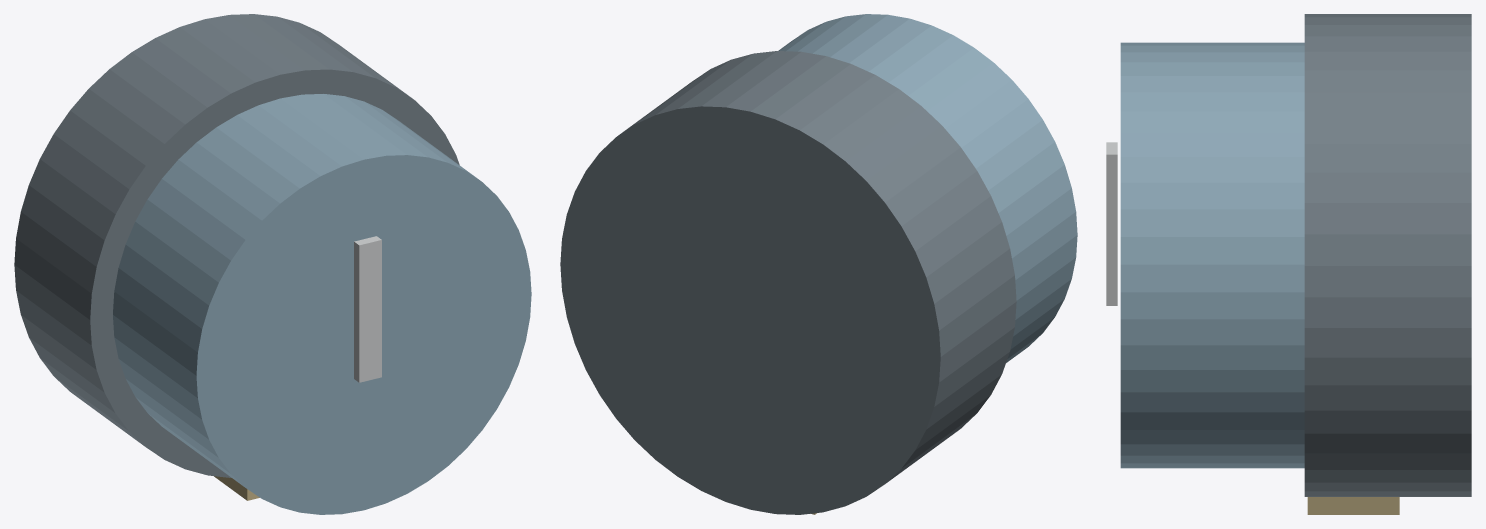
File: knob.glb
The picture shows the model from 3 angles, left to right: view 1: azimuth 30°, elevation 25°; view 2: azimuth 150°, elevation 25°; view 3: azimuth 270°, elevation 25°; orthographic projection. The views are drawn at different scales.
Visible parts, largest first — view 1: world; view 2: world; view 3: world.
Boxes of the visible parts, left/top/right/bottom form: world: left=14, top=14, right=531, bottom=514; world: left=560, top=14, right=1077, bottom=514; world: left=1106, top=14, right=1471, bottom=514.
Size of the model in its own units: 0.084 by 0.0885 by 0.0635.
